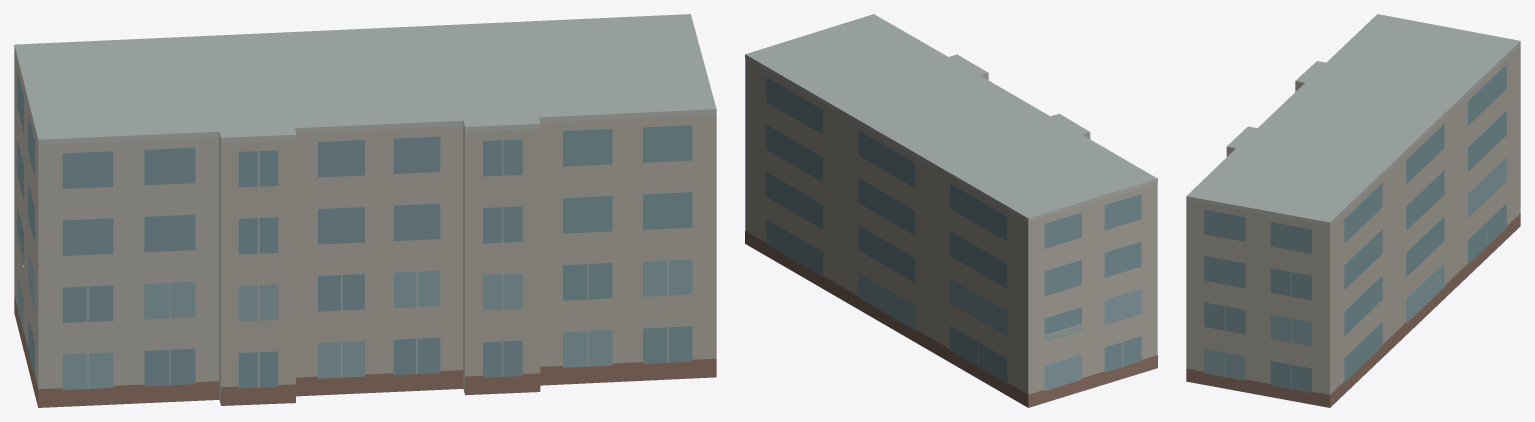
File: survey-upis-32531947.glb
3 views of the same model, side by side, from view 1: azimuth 30°, elevation 25°; view 2: azimuth 150°, elevation 25°; view 3: azimuth 270°, elevation 25° (orthographic). The views are drawn at different scales.
Visible parts, largest first — view 1: survey-upis-32531947.tmp; view 2: survey-upis-32531947.tmp; view 3: survey-upis-32531947.tmp.
Boxes of the visible parts, box(x1,y1,x2,y2) form: survey-upis-32531947.tmp: box(14, 14, 716, 407); survey-upis-32531947.tmp: box(745, 14, 1157, 407); survey-upis-32531947.tmp: box(1186, 14, 1520, 407).
Size of the model in its own units: 28.72 by 11.9 by 19.46.
